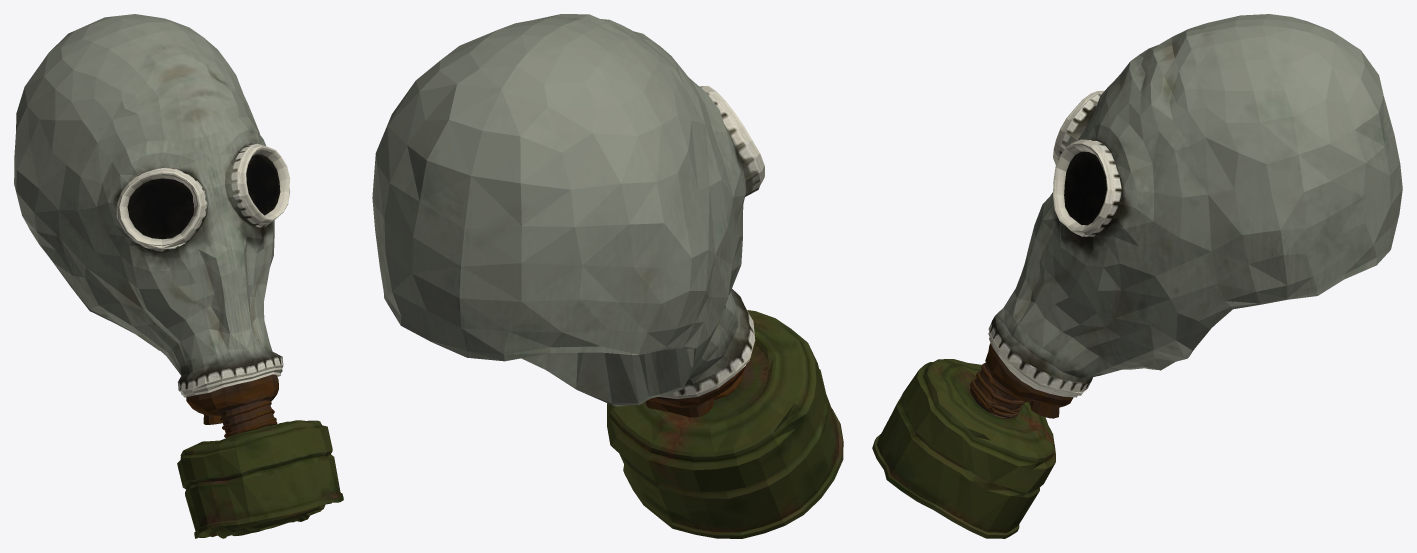
File: mhw_gredal_gas_mask.glb
The picture shows the model from 3 angles, left to right: view 1: azimuth 30°, elevation 25°; view 2: azimuth 150°, elevation 25°; view 3: azimuth 270°, elevation 25°; orthographic projection. The views are drawn at different scales.
Parts seen in each view (by area): view 1: mhw_gredal_gas_mask; view 2: mhw_gredal_gas_mask; view 3: mhw_gredal_gas_mask.
Part boxes in pixels (left/top/right/bottom): mhw_gredal_gas_mask: left=14, top=14, right=343, bottom=538; mhw_gredal_gas_mask: left=372, top=14, right=843, bottom=538; mhw_gredal_gas_mask: left=872, top=14, right=1402, bottom=538.
Size of the model in its own units: 0.2131 by 0.3934 by 0.3801.
Materials: 1 (1 with a texture image).
